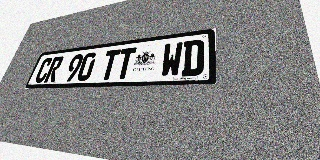0: (76, 52, 97, 81)
9: (63, 53, 85, 82)
C: (33, 57, 54, 83)
D: (181, 39, 204, 76)
R: (44, 56, 64, 82)
T: (114, 47, 137, 79), (99, 49, 121, 80)
W: (160, 41, 183, 77)
